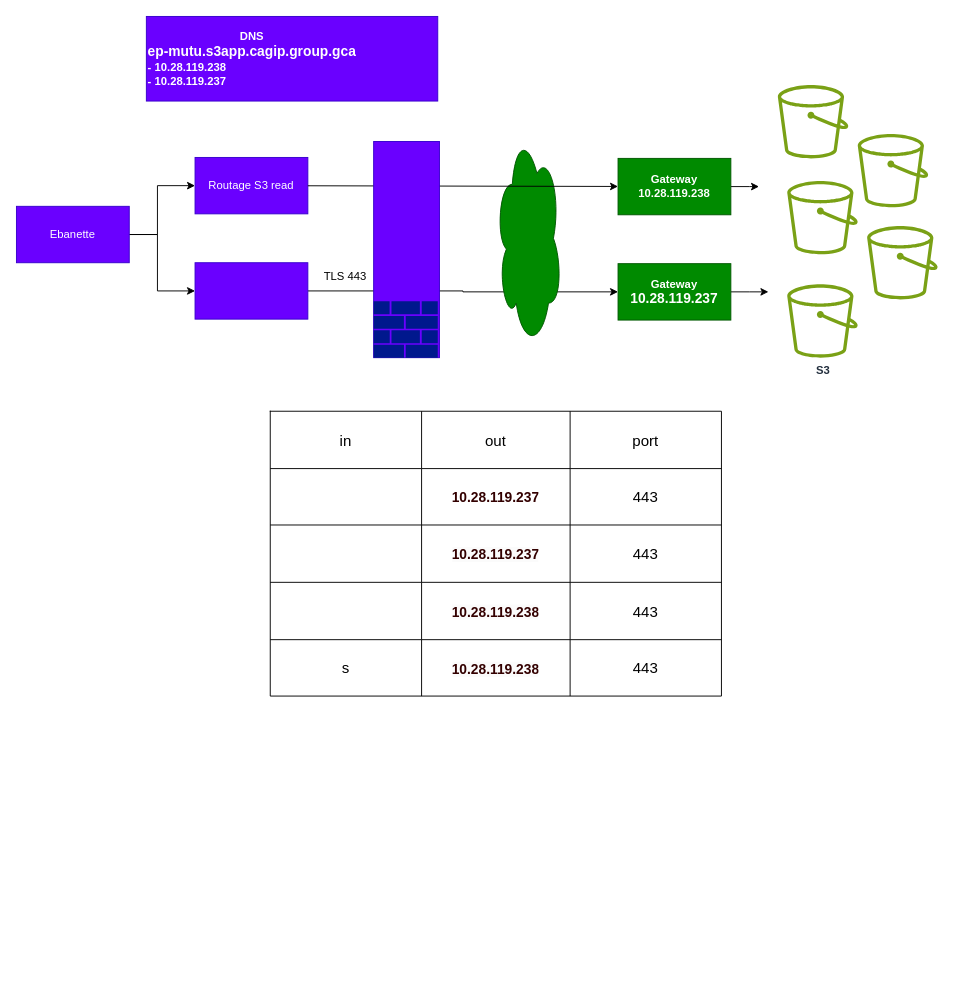
This 954x982 diagram has some shape labels left out. The shapes that lost their labels are listed below. From the top down, each one's box as (x1, y1, x2, y2) in pixels, then its label:
(373, 141, 439, 358): Firewall
(495, 129, 562, 346): Carmen
(194, 262, 308, 319): Routage S3 write
